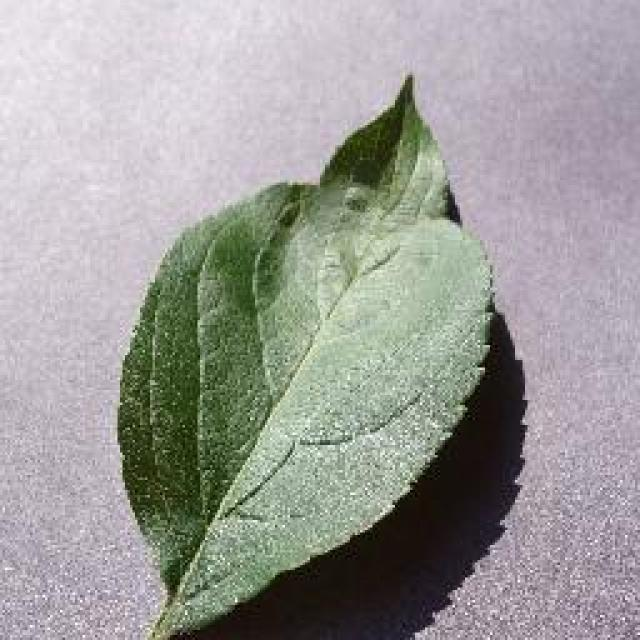apple healthy: (112, 70, 498, 638)
